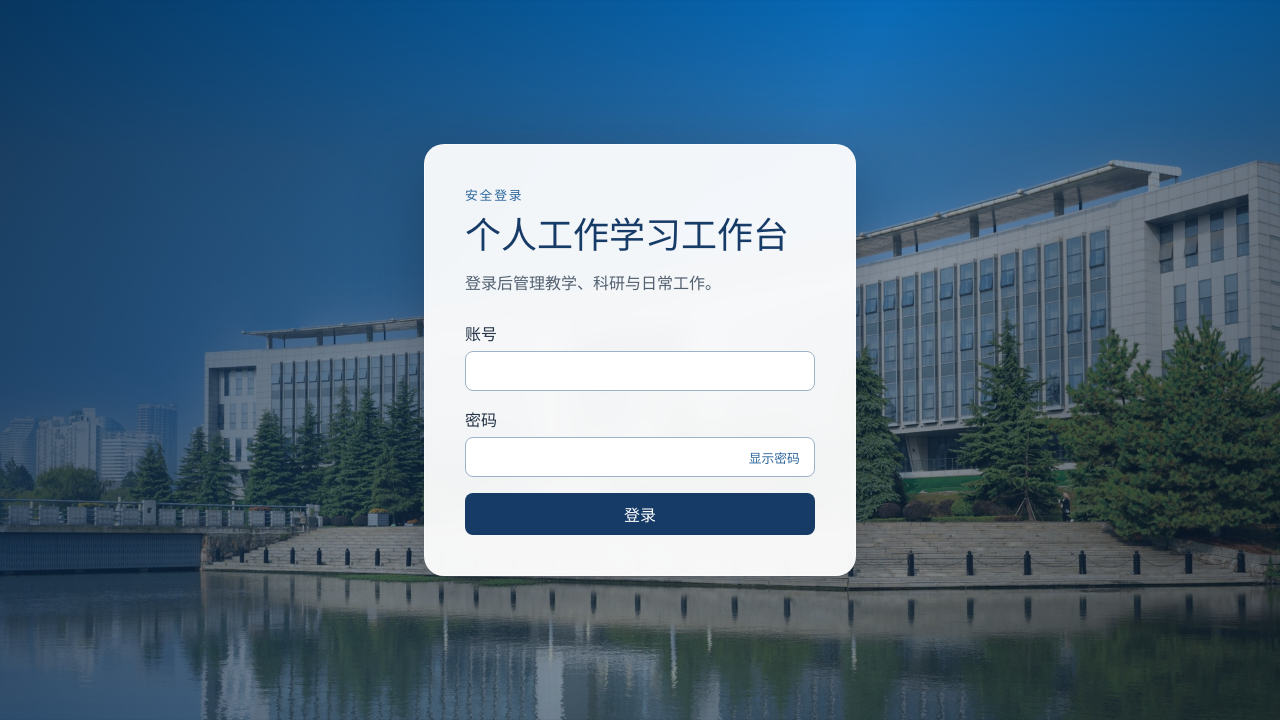
Test: maps rejected credentials to a stable Chinese message
Type "zhoujingjing" into the field labelled "账号".
click(640, 371); type("zhoujingjing")  # box [465,351,815,391]
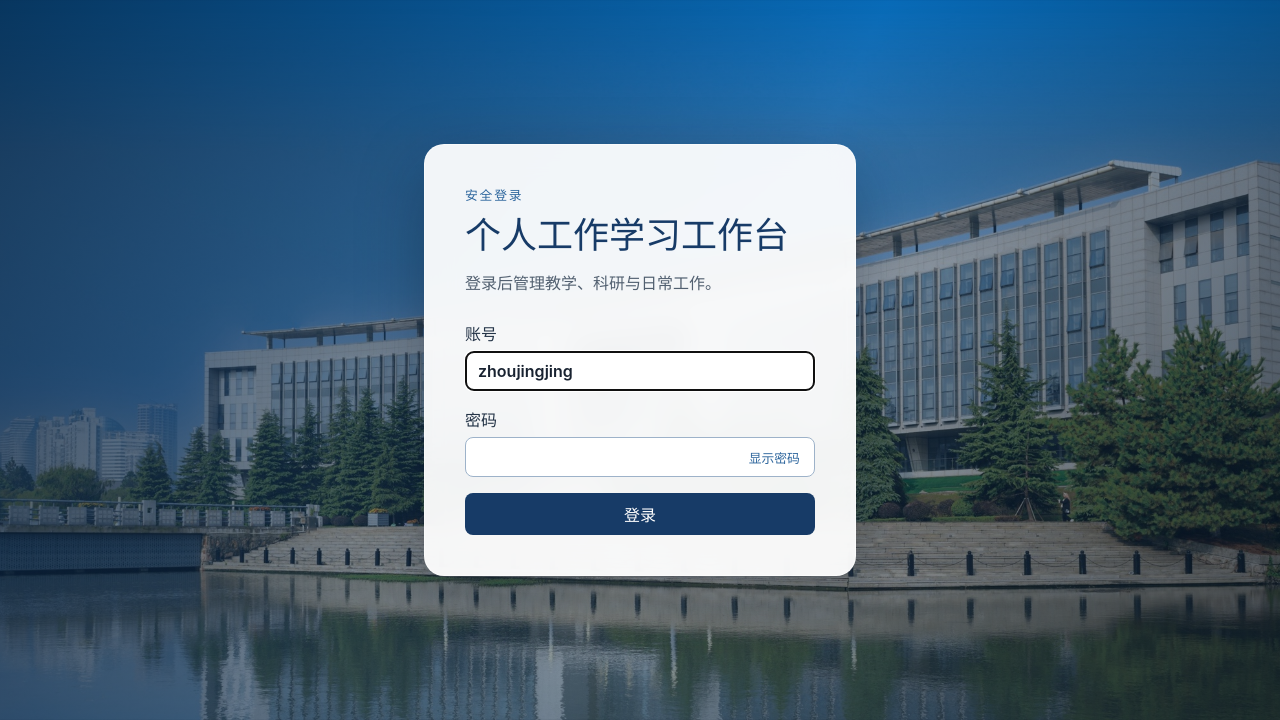
Type "wrong-password" into the password field labelled "密码".
click(640, 457); type("wrong-password")  # box [465,437,815,477]
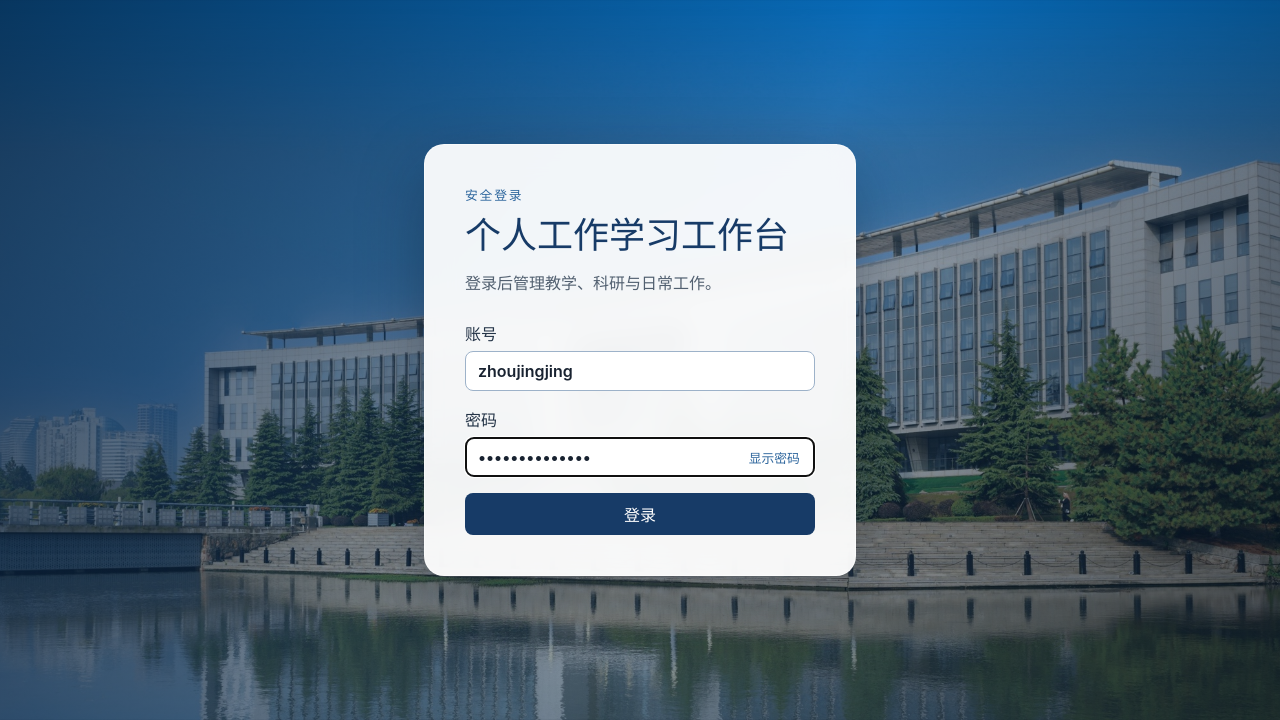
Click the button "登录".
click(640, 514)  # box [465,493,815,535]
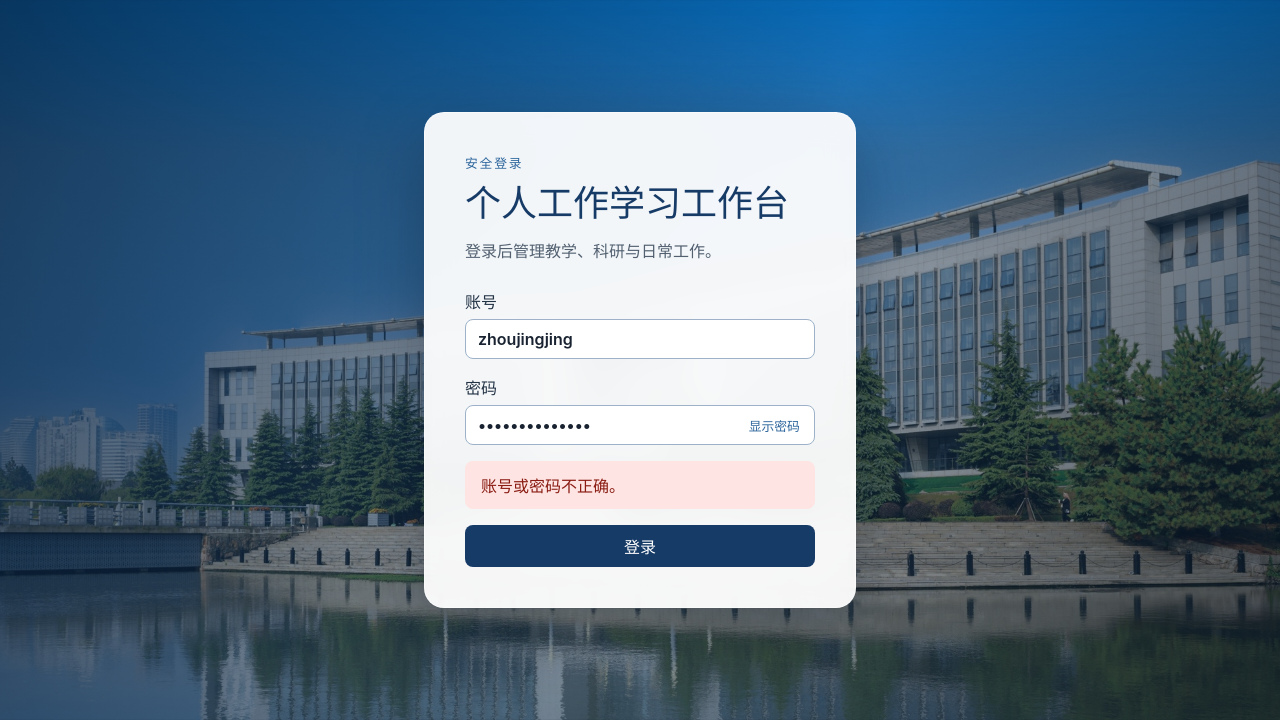
Check: the message shows "账号或密码不正确", box [481,476,625,496]
